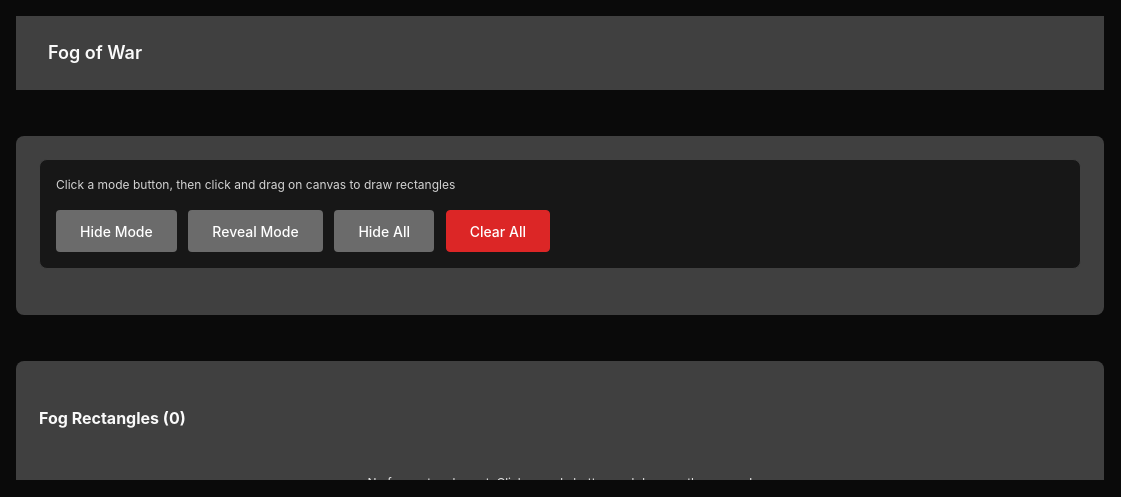
FogPanel — mode toggle › clicking active mode again deactivates it
Click the button titled "draw fog hide rectangles".
click(116, 231)  # box [56,210,177,252]
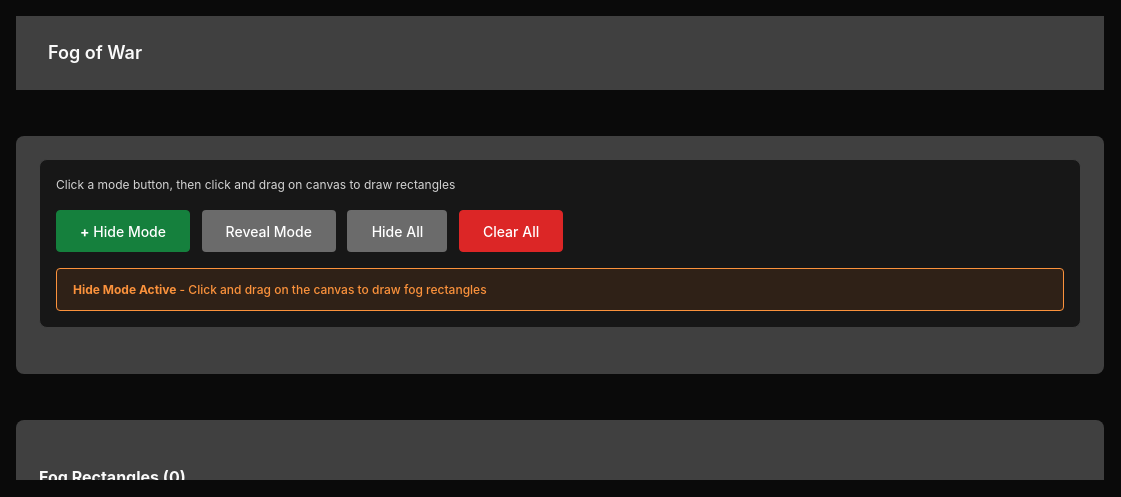
Expected: the text "Hide Mode Active" is shown, [73,282,176,297]
Click the button titled "draw fog hide rectangles".
click(123, 231)  # box [56,210,190,252]
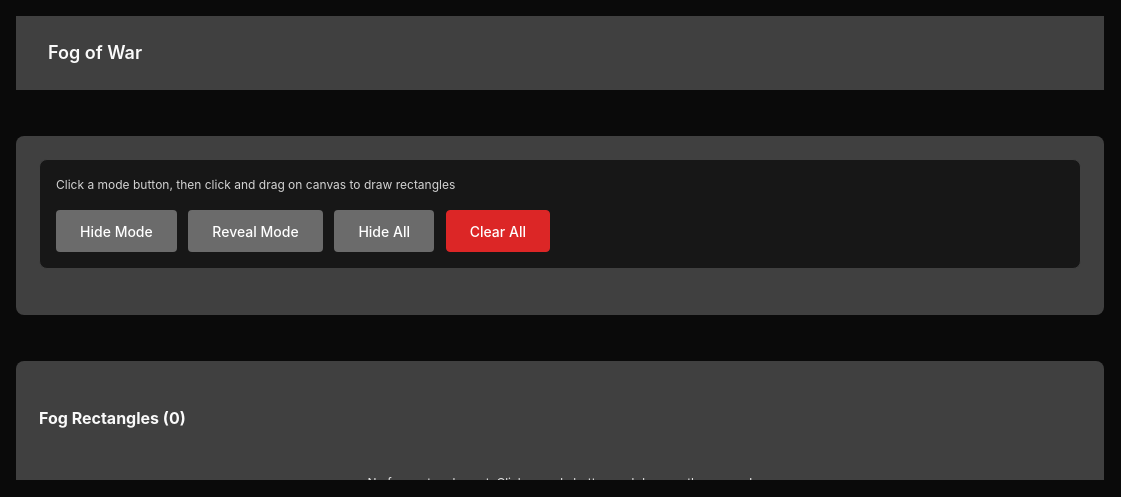
Expected: the text "Hide Mode Active" is gone
